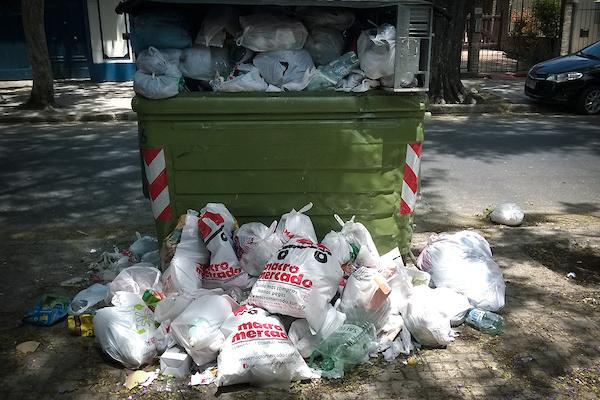Dechets: (83, 206, 500, 385), (132, 6, 419, 98), (248, 235, 342, 330), (416, 230, 505, 330), (215, 306, 318, 385), (24, 263, 110, 335), (93, 291, 158, 367), (170, 294, 238, 353), (310, 320, 376, 377), (90, 232, 158, 280), (342, 267, 391, 331), (486, 203, 524, 226)
Trash: (116, 0, 426, 258)
